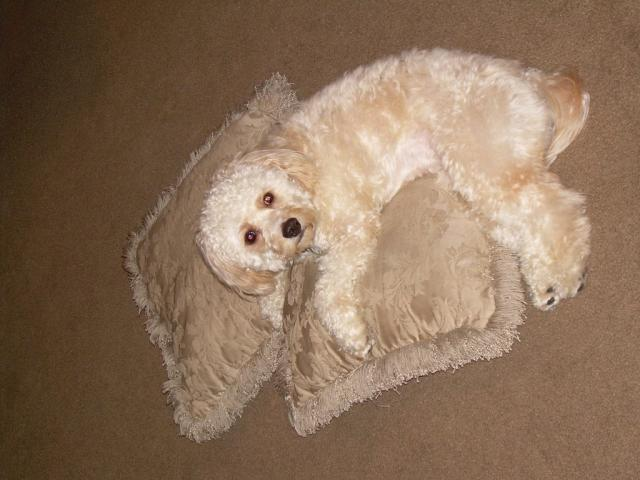Dog: (195, 44, 594, 363)
